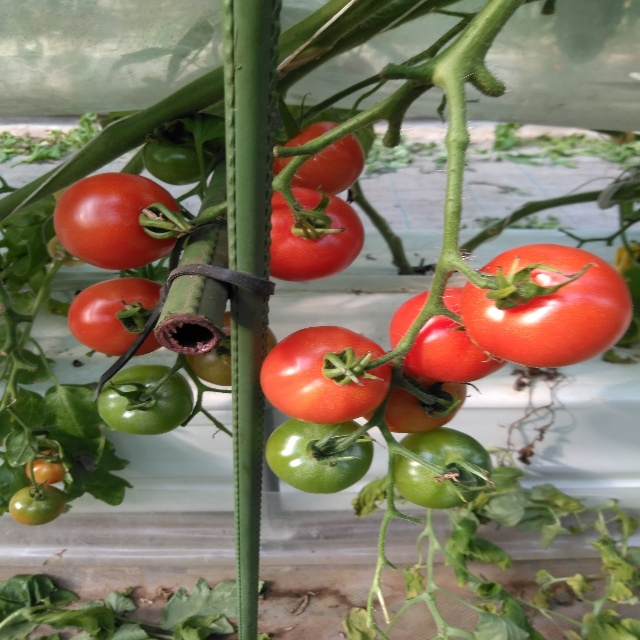l_fully_ripened: (460, 243, 634, 369), (260, 326, 393, 424), (52, 172, 184, 270), (389, 285, 506, 384), (267, 186, 366, 283), (68, 277, 164, 356), (271, 122, 365, 196)
l_green: (391, 426, 493, 509), (264, 418, 373, 494), (97, 364, 193, 435), (142, 127, 219, 186), (9, 483, 66, 526)
l_half_ripened: (361, 349, 467, 434), (183, 312, 279, 387), (26, 449, 65, 485)
